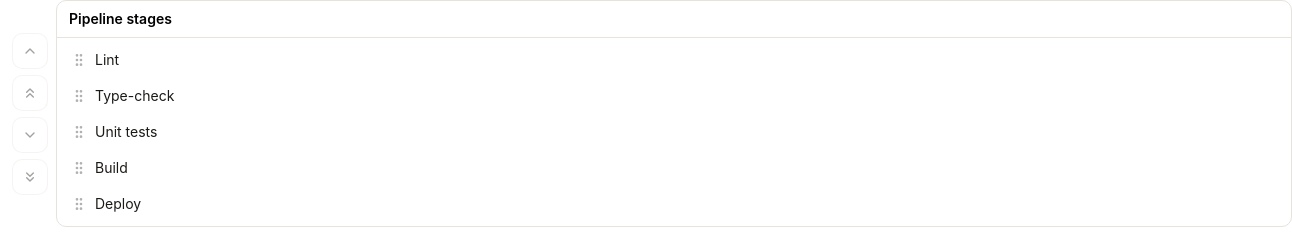
it: OrderList (component) › disables the up controls when the top item is selected
The width and height of the screenshot is (1292, 244).
What coordinates should you click on to do the following:
click the option "Lint"
I would click on:
 (95, 60)
Its box is [71, 51, 119, 68].
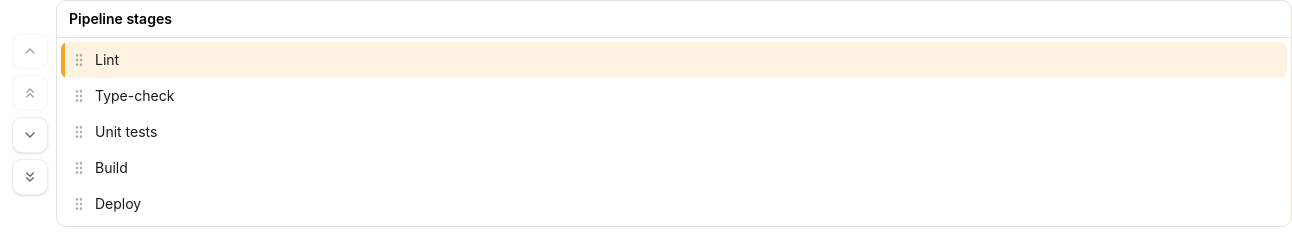
Check: the button named "Move up" is disabled, box [12, 32, 48, 68]
Check: the button named "Move to bottom" is enabled, box [12, 158, 48, 194]
